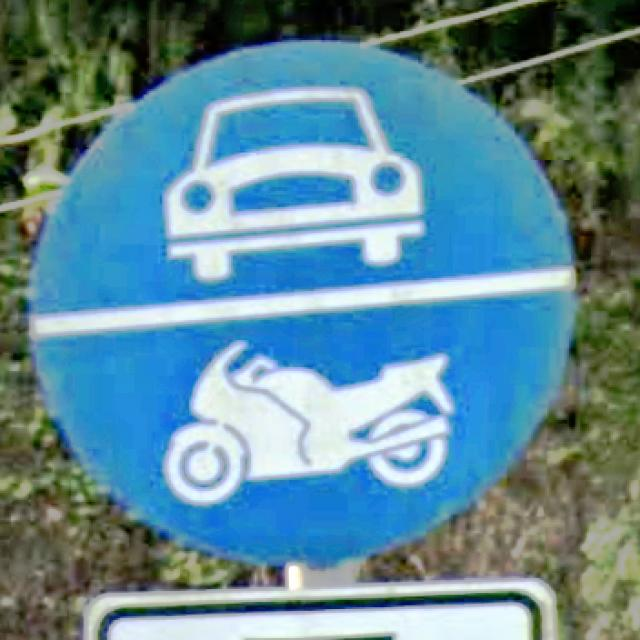carmotorcycle: (32, 42, 572, 562)
